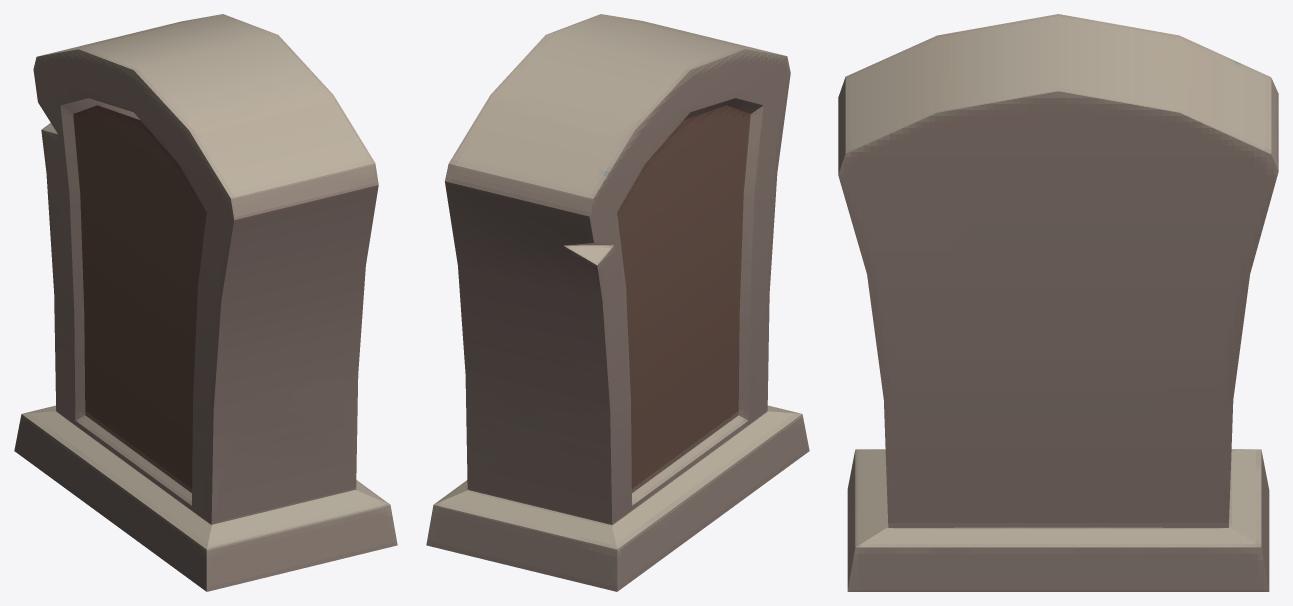
File: grave_stele.glb
The picture shows the model from 3 angles, left to right: view 1: azimuth 30°, elevation 25°; view 2: azimuth 150°, elevation 25°; view 3: azimuth 270°, elevation 25°; orthographic projection. The views are drawn at different scales.
Visible parts, largest first — view 1: 石碑; view 2: 石碑; view 3: 石碑.
Boxes of the visible parts, box(x1,y1,x2,y2) form: 石碑: box(14, 14, 397, 591); 石碑: box(426, 14, 809, 591); 石碑: box(838, 14, 1278, 591).
Bounding box in the file's own units: 0.4469 × 0.9971 × 0.8153.
1 material, 1 textured.
